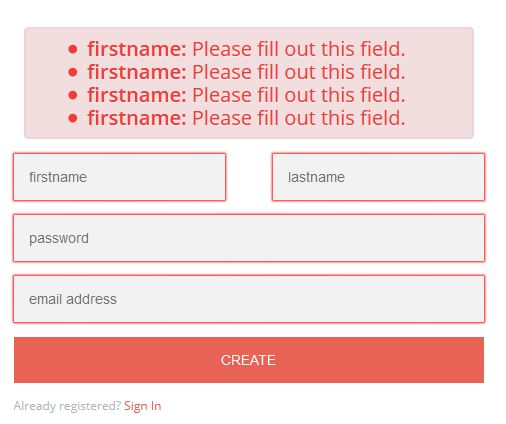error_field: (10, 274, 487, 325), (10, 213, 486, 263), (270, 150, 487, 202), (10, 151, 229, 202)
error_message: (85, 40, 409, 128), (219, 350, 278, 367)
